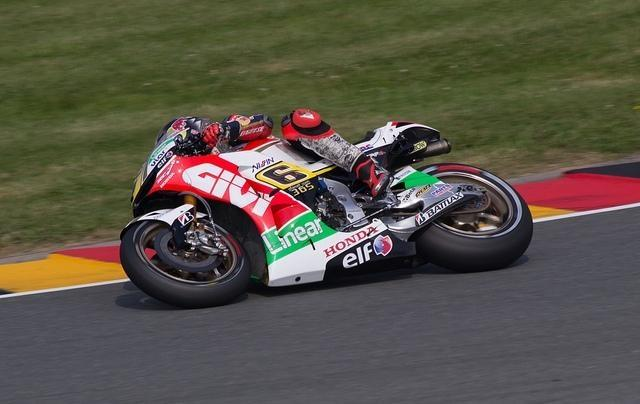motorcycle: (119, 113, 536, 307)
